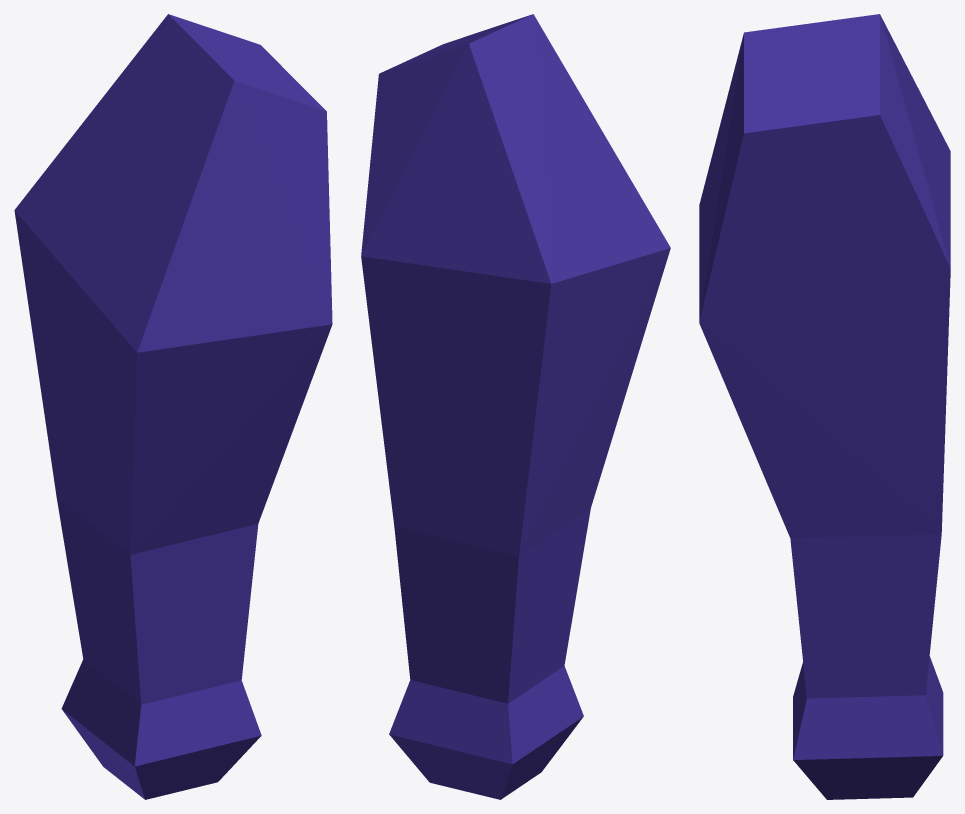
The model's file is left_lower_leg.dae.
3 views of the same model, side by side, from view 1: azimuth 30°, elevation 25°; view 2: azimuth 150°, elevation 25°; view 3: azimuth 270°, elevation 25° (orthographic). The views are drawn at different scales.
Parts seen in each view (by area): view 1: left_lower_leg; view 2: left_lower_leg; view 3: left_lower_leg.
Part boxes in pixels (x1,y1,x2,y2): left_lower_leg: [14, 14, 332, 799]; left_lower_leg: [361, 14, 670, 799]; left_lower_leg: [699, 14, 950, 799].
Size of the model in its own units: 0.1488 by 0.1495 by 0.5074.
